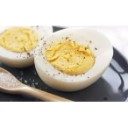begg: (38, 28, 113, 82)
